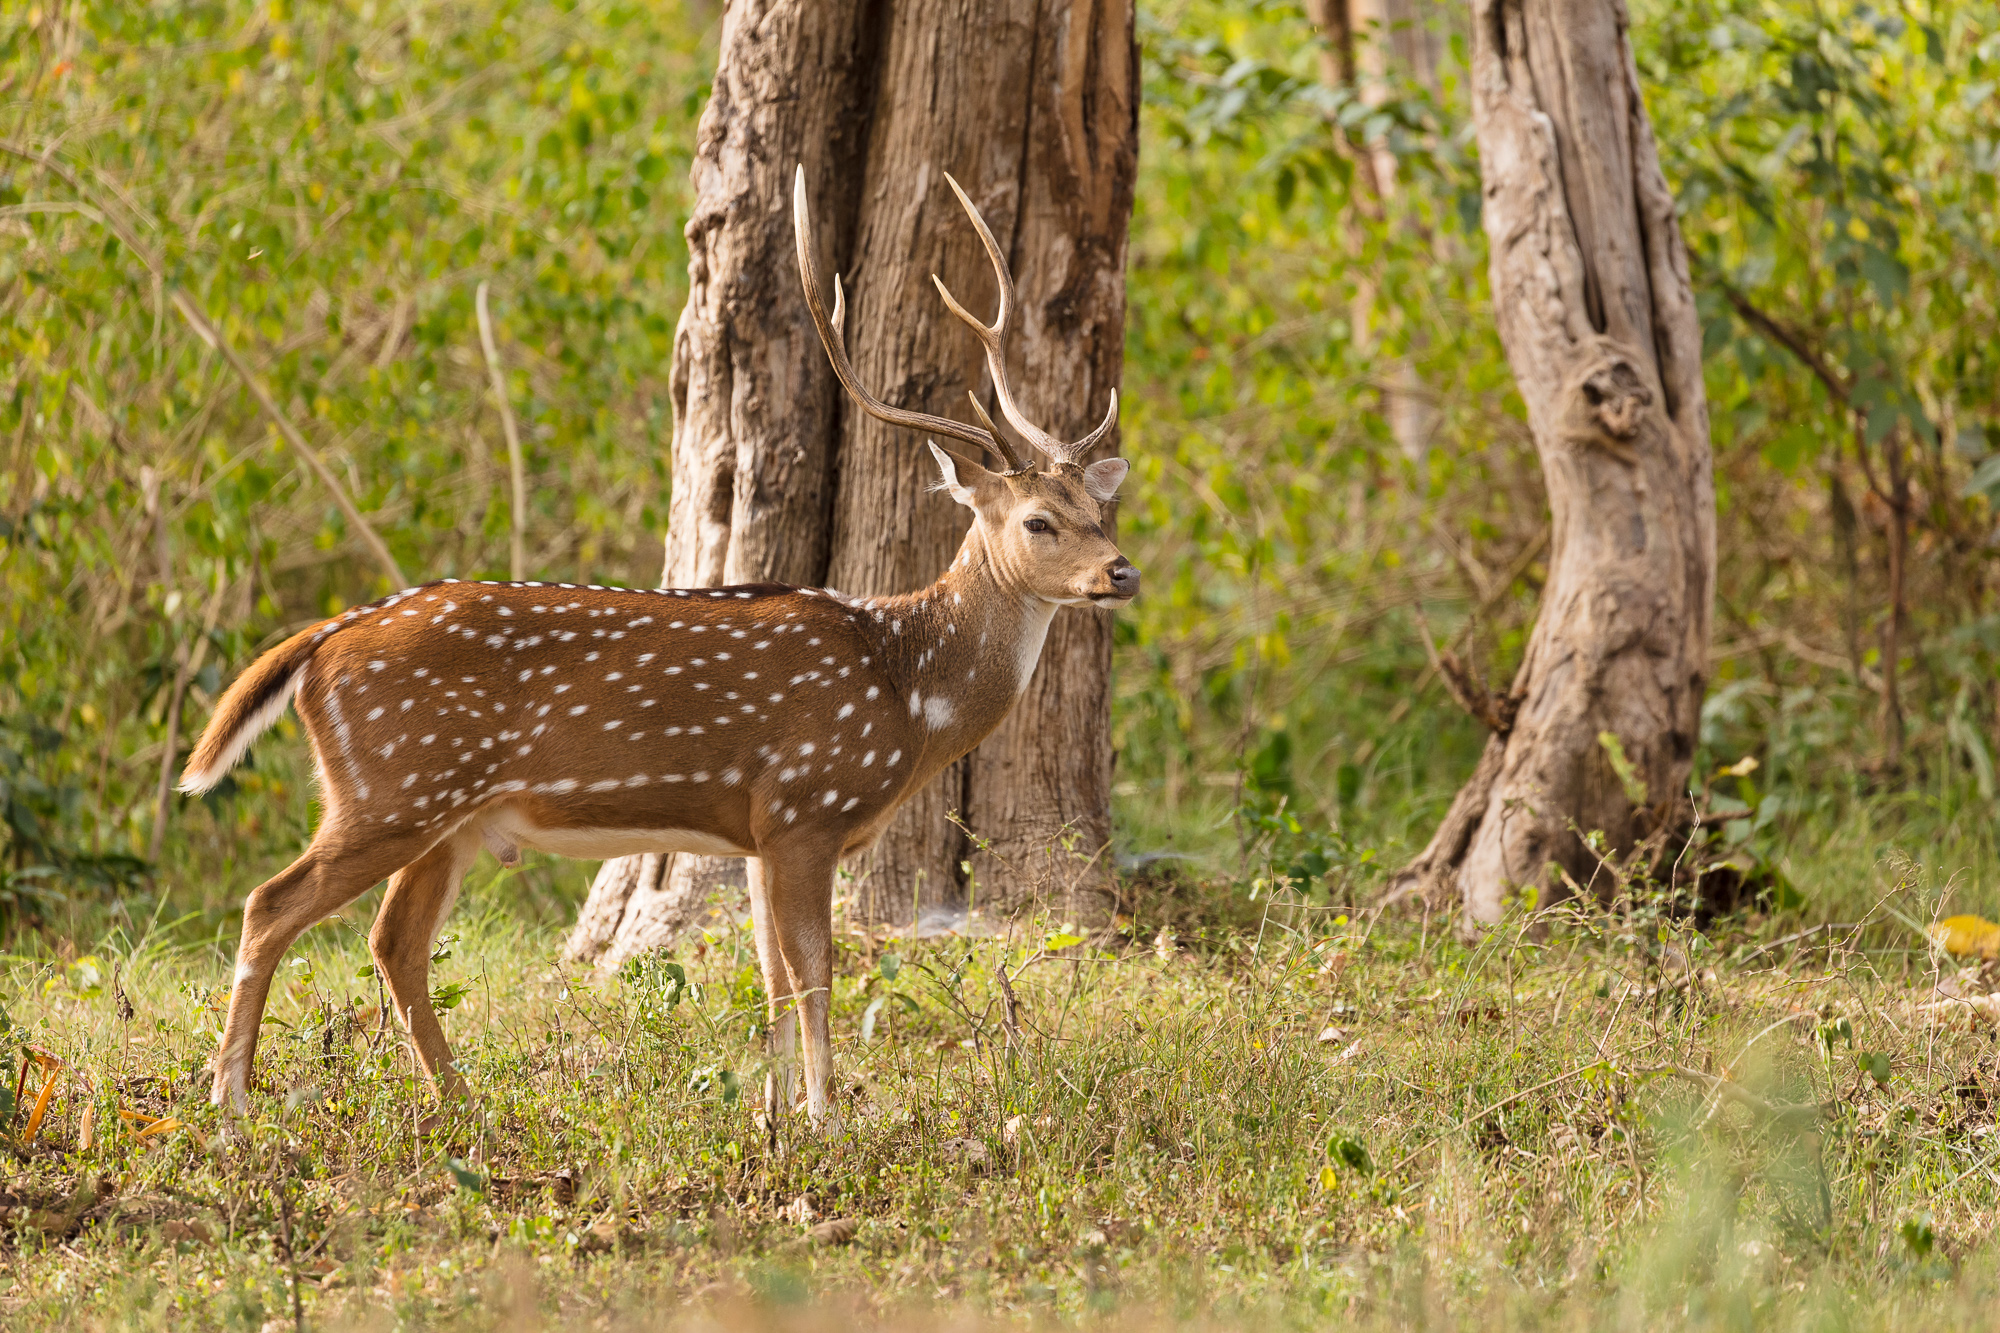Deer: (177, 167, 1155, 1117)
